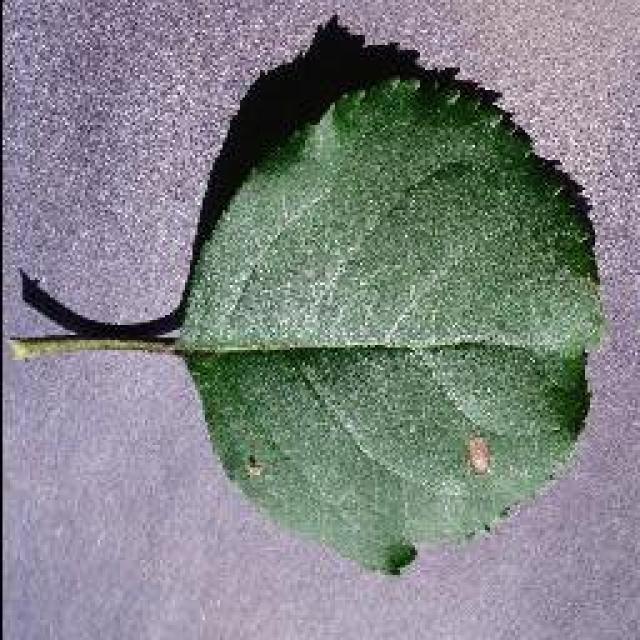apple black rot: (10, 10, 608, 578)
